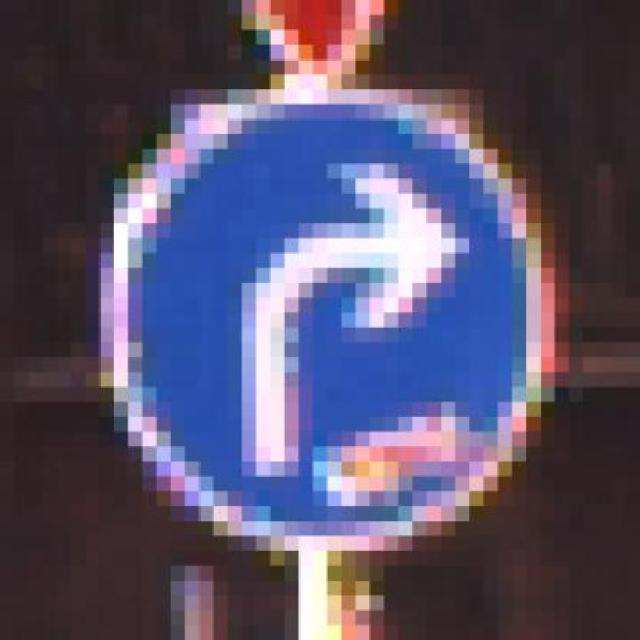Turn right ahead: (86, 74, 554, 566)
